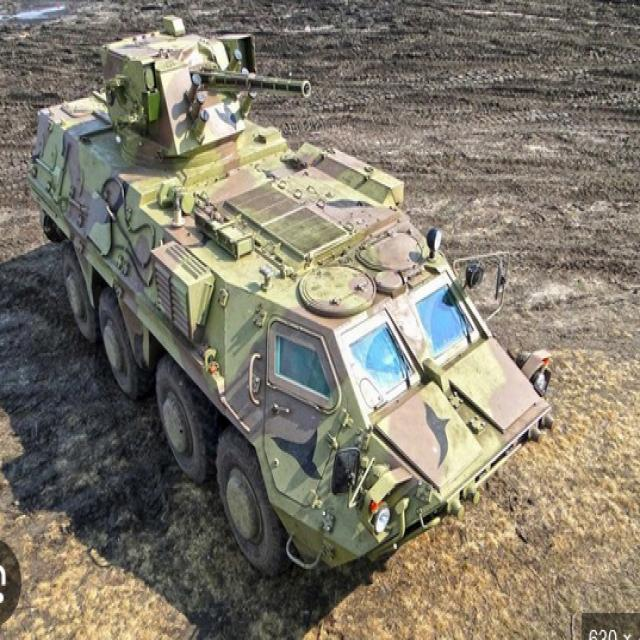MIL_APC: (31, 32, 586, 588)
